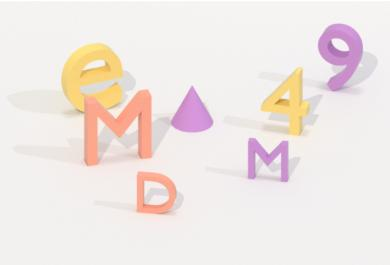0-TamGiac: (167, 81, 218, 135)
4: (255, 64, 312, 138)
9: (314, 20, 365, 94)
D: (133, 167, 180, 218)
M: (80, 87, 156, 168), (243, 133, 294, 185)
e: (58, 40, 130, 115)
